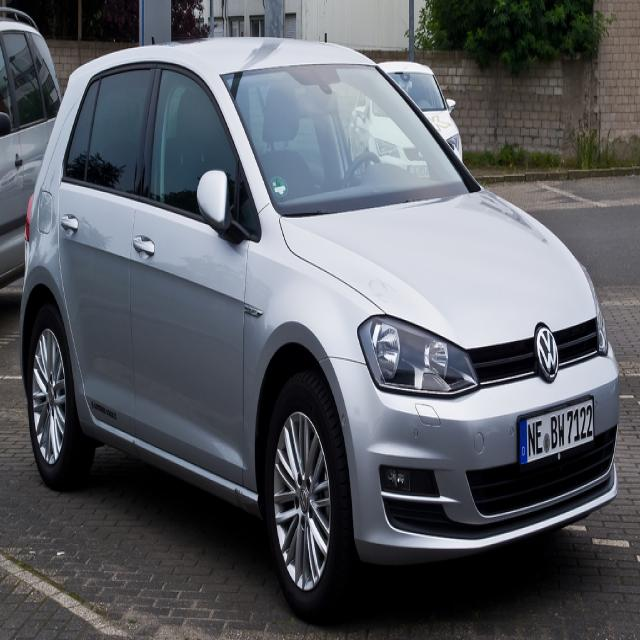car: (11, 51, 631, 598)
